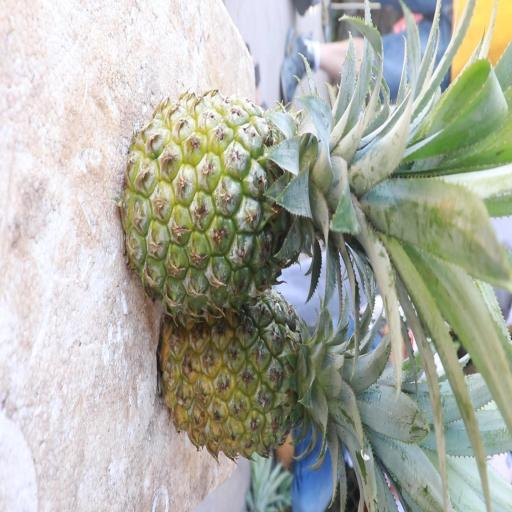------------------------------: (124, 83, 354, 300)
Pineapple - v8 v1: (162, 300, 348, 462)
